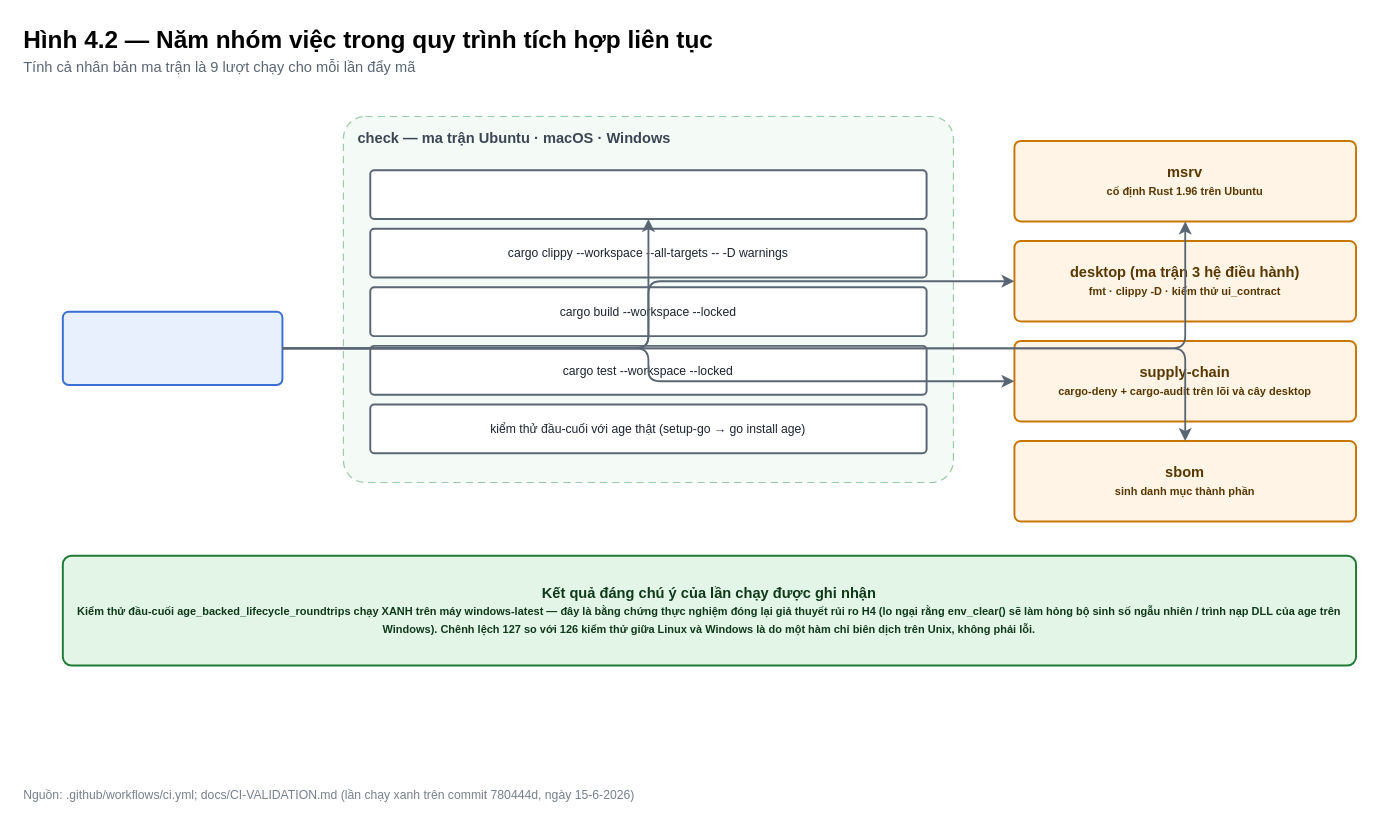
The diagram is 1393 pixels wide and 824 high, and some of its shapes have lost their labels. The centre of each missing label's shape, as x and y in pixels:
cargo fmt --all --check: pixel 648 194
push / pull request: pixel 172 347
